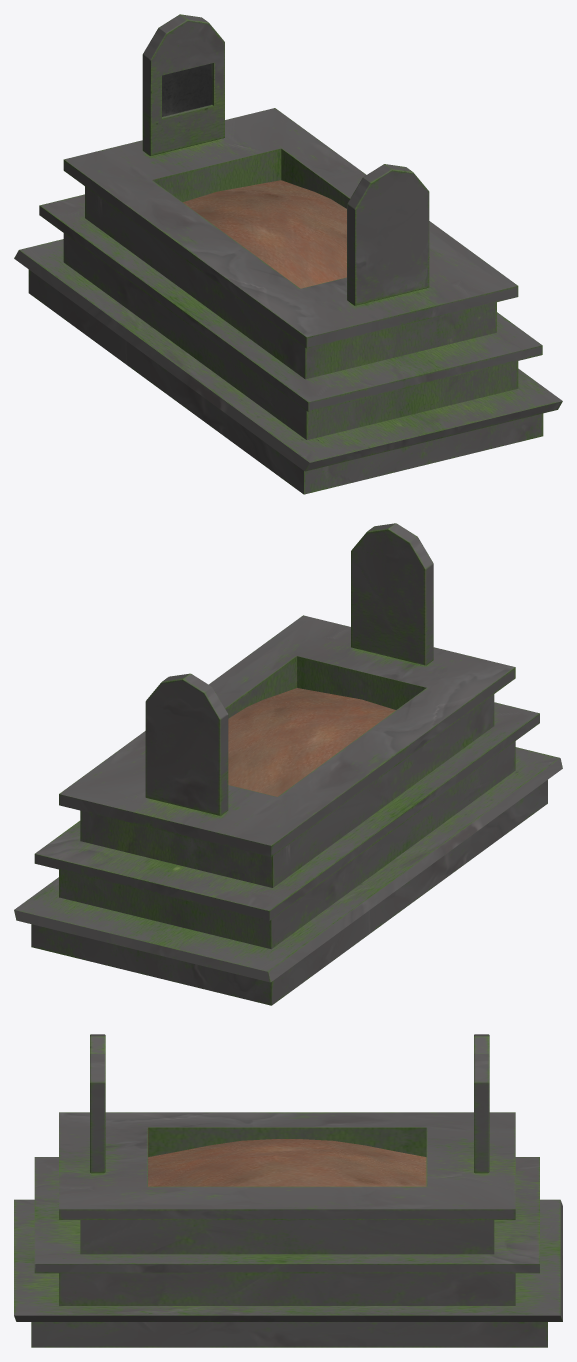
Rendered from Tomb2.fbx.
3 views of the same model, one above another, from view 1: azimuth 30°, elevation 25°; view 2: azimuth 150°, elevation 25°; view 3: azimuth 270°, elevation 25° (orthographic). The views are drawn at different scales.
Visible parts, largest first — view 1: Tomb.001; view 2: Tomb.001; view 3: Tomb.001.
Part boxes in pixels (left/top/right/bottom): Tomb.001: left=14, top=14, right=562, bottom=494; Tomb.001: left=14, top=523, right=562, bottom=1005; Tomb.001: left=14, top=1034, right=562, bottom=1347.
Bounding box in the file's own units: 431 × 438 × 850.
